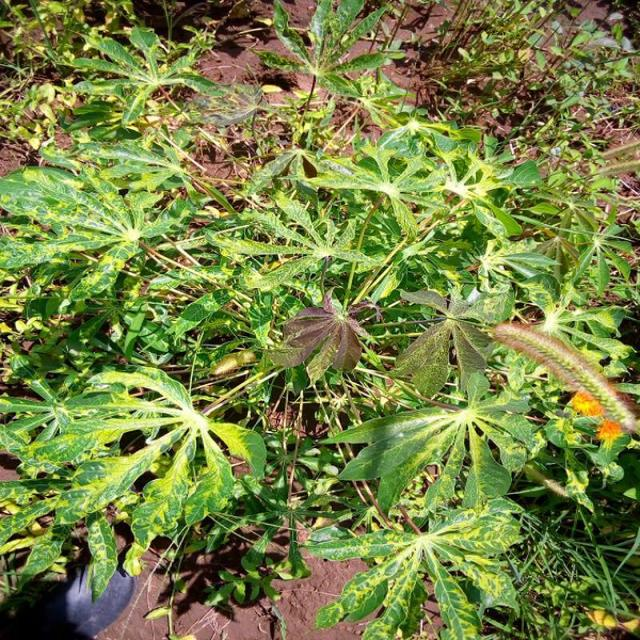cassava leaf: (489, 320, 638, 437), (392, 283, 514, 399), (265, 285, 379, 386)
